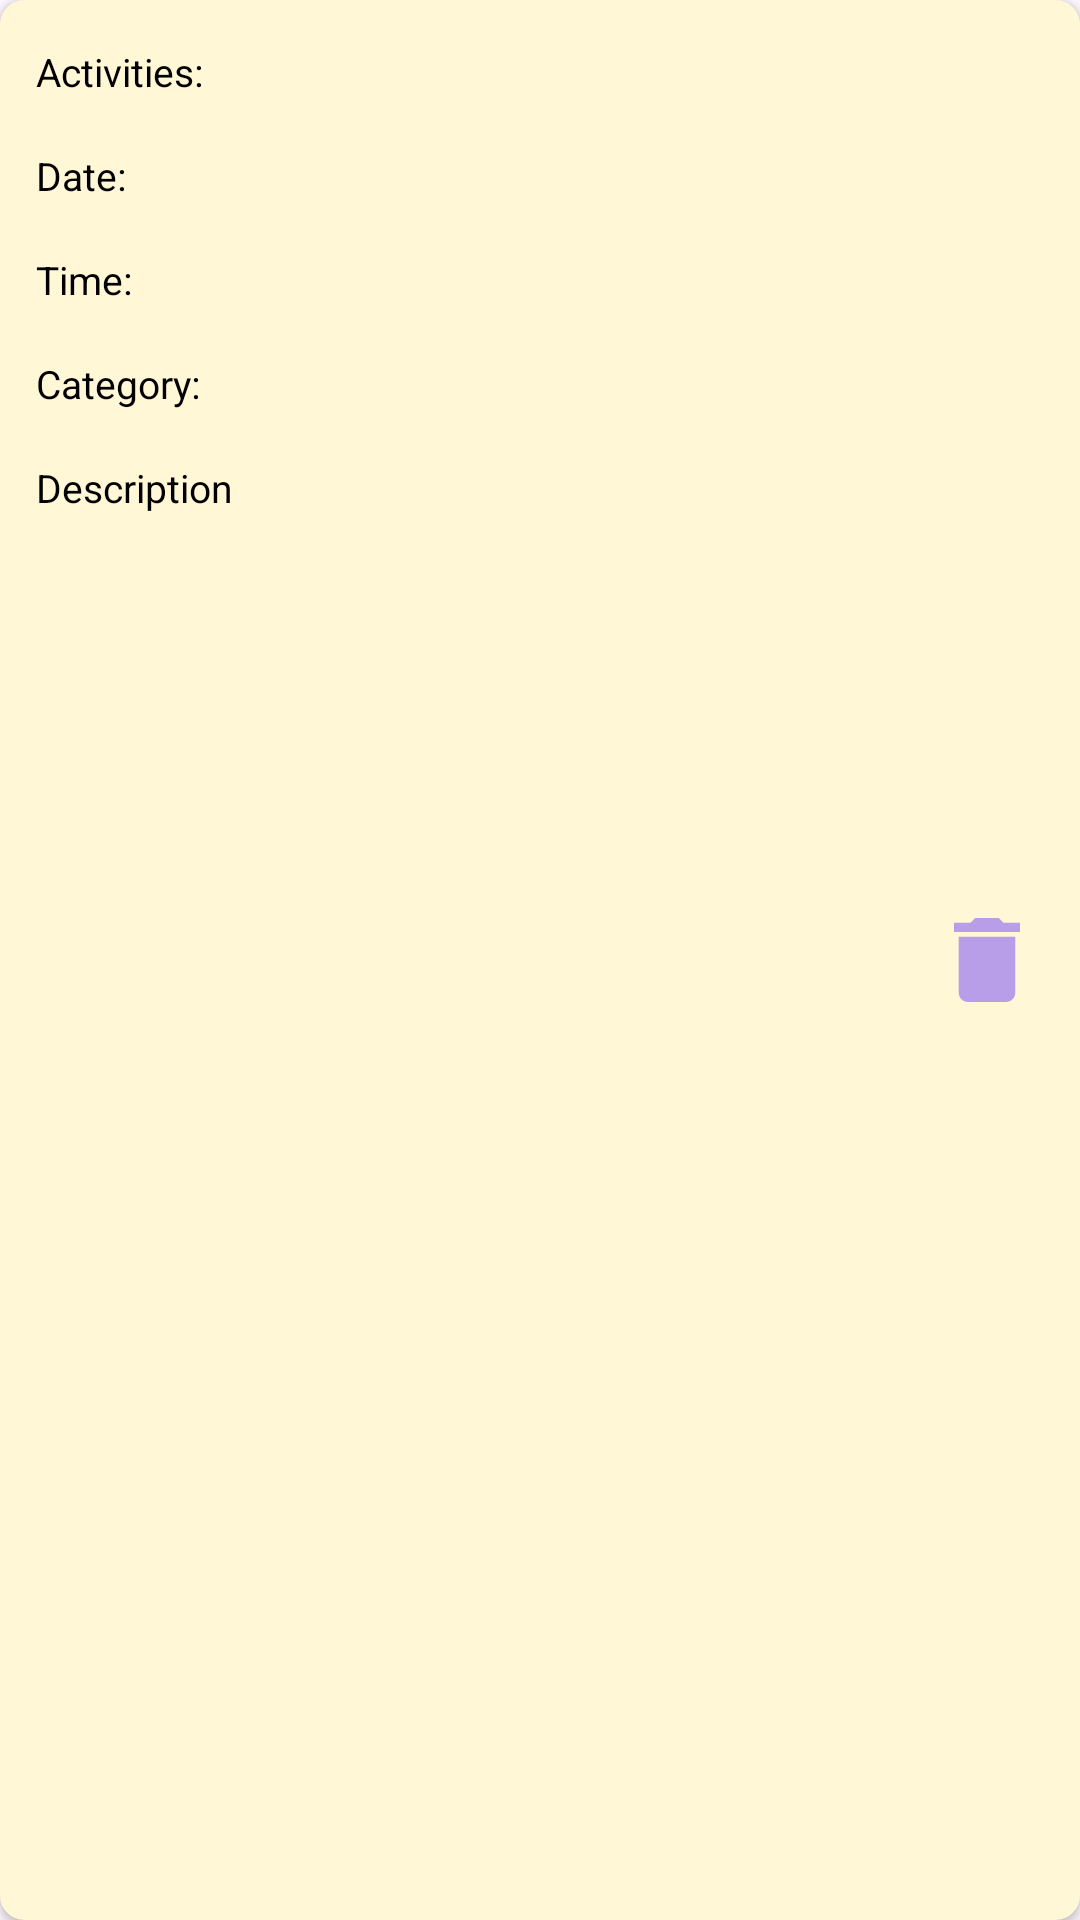

Point at icon controls on the screen. Image size 1080w x 1920h, points as [x,y].
delete: [987,960]
